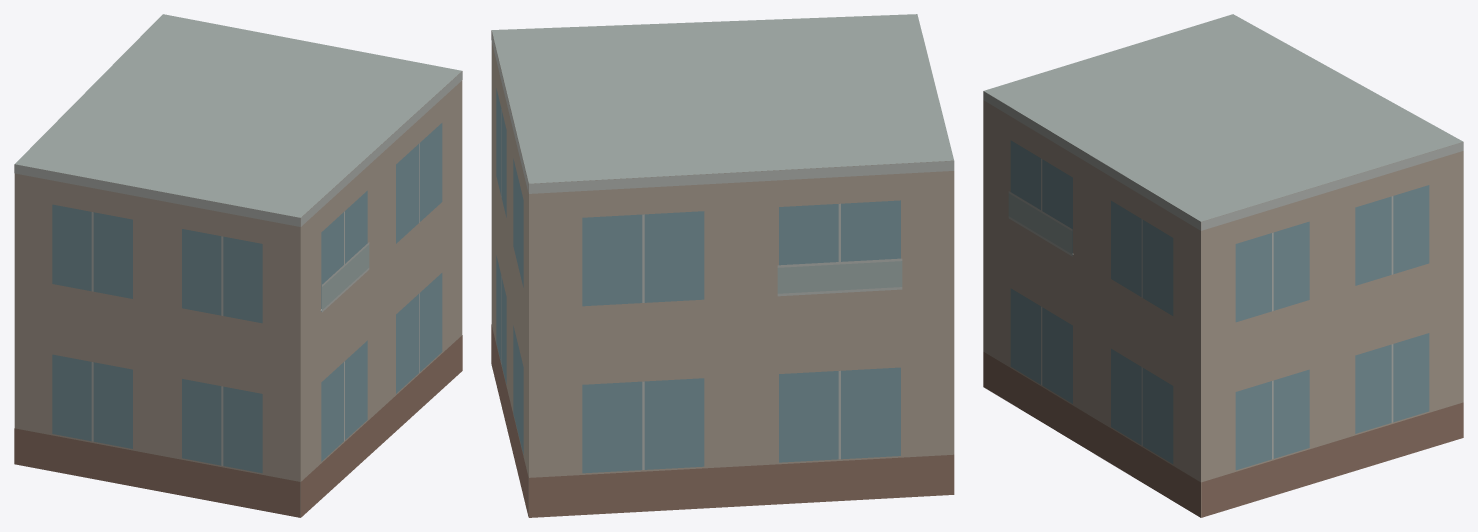
File: survey-upis-33025129.glb
3 views of the same model, side by side, from view 1: azimuth 30°, elevation 25°; view 2: azimuth 150°, elevation 25°; view 3: azimuth 270°, elevation 25° (orthographic). The views are drawn at different scales.
Parts seen in each view (by area): view 1: survey-upis-33025129.tmp; view 2: survey-upis-33025129.tmp; view 3: survey-upis-33025129.tmp.
Boxes of the visible parts, <box> form: survey-upis-33025129.tmp: <box>14,14,462,517</box>; survey-upis-33025129.tmp: <box>491,14,954,517</box>; survey-upis-33025129.tmp: <box>983,14,1463,517</box>.
Bounding box in the file's own units: 11.96 × 7.94 × 11.68.
